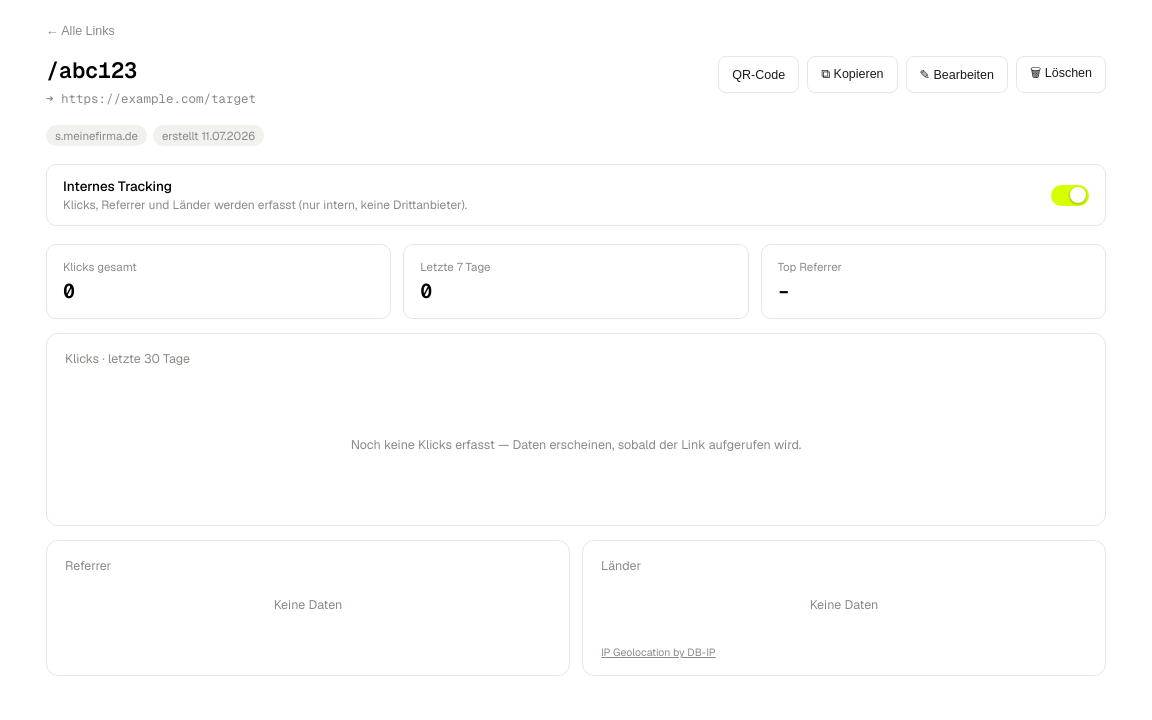
Test: LinkDetailView › toggle: a failed PATCH reverts the optimistic flip and toasts the failure copy
Click the switch with class "toggle" at [1070, 195], box [1051,184,1089,206]
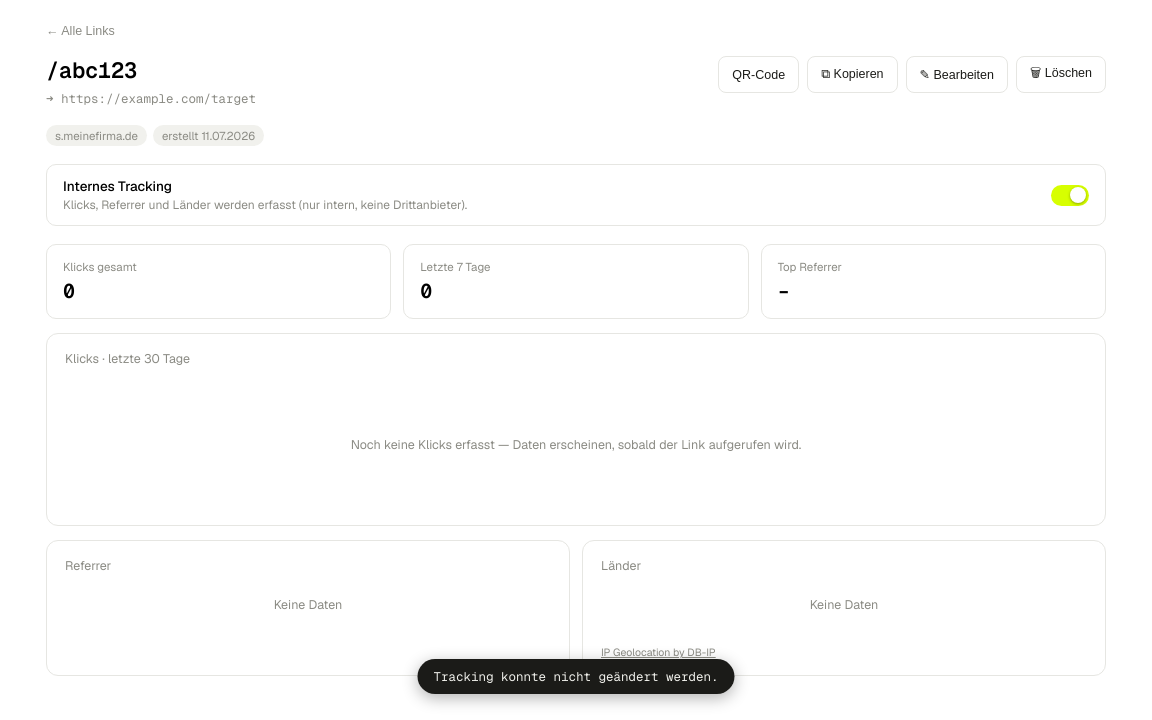
Now the text with class "toast" reads "Tracking konnte nicht geändert werden.", box [434,668,718,685]
